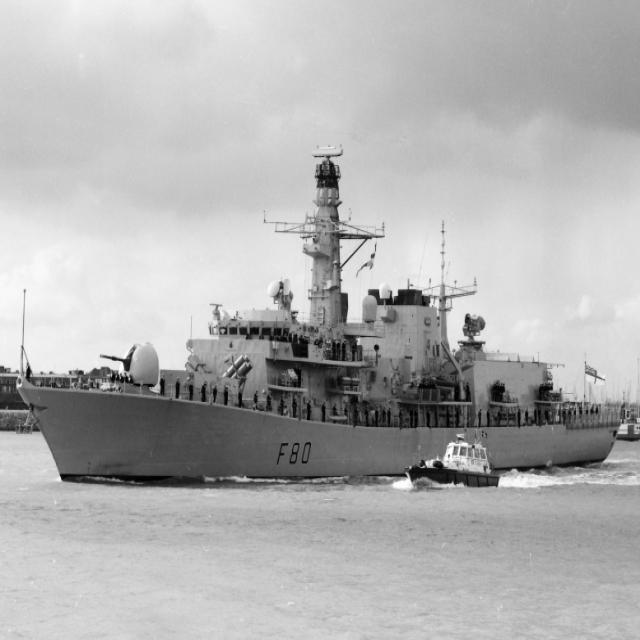Fragata: (20, 138, 629, 495)
